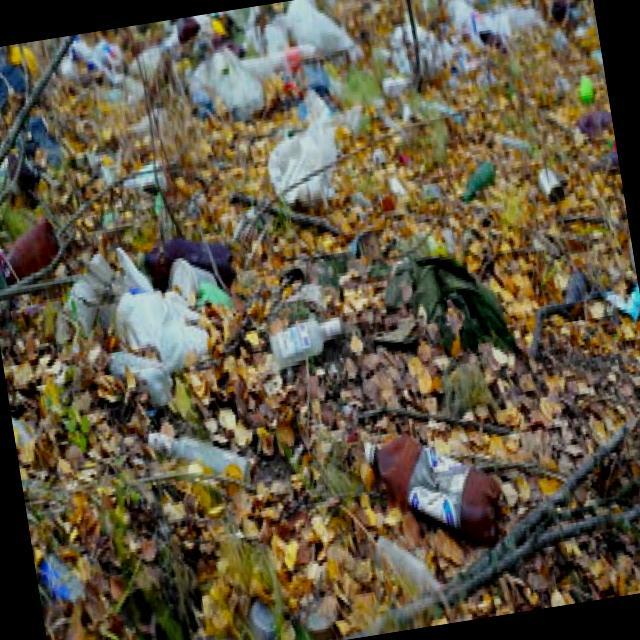garbage: (0, 0, 627, 315), (349, 401, 512, 574)
